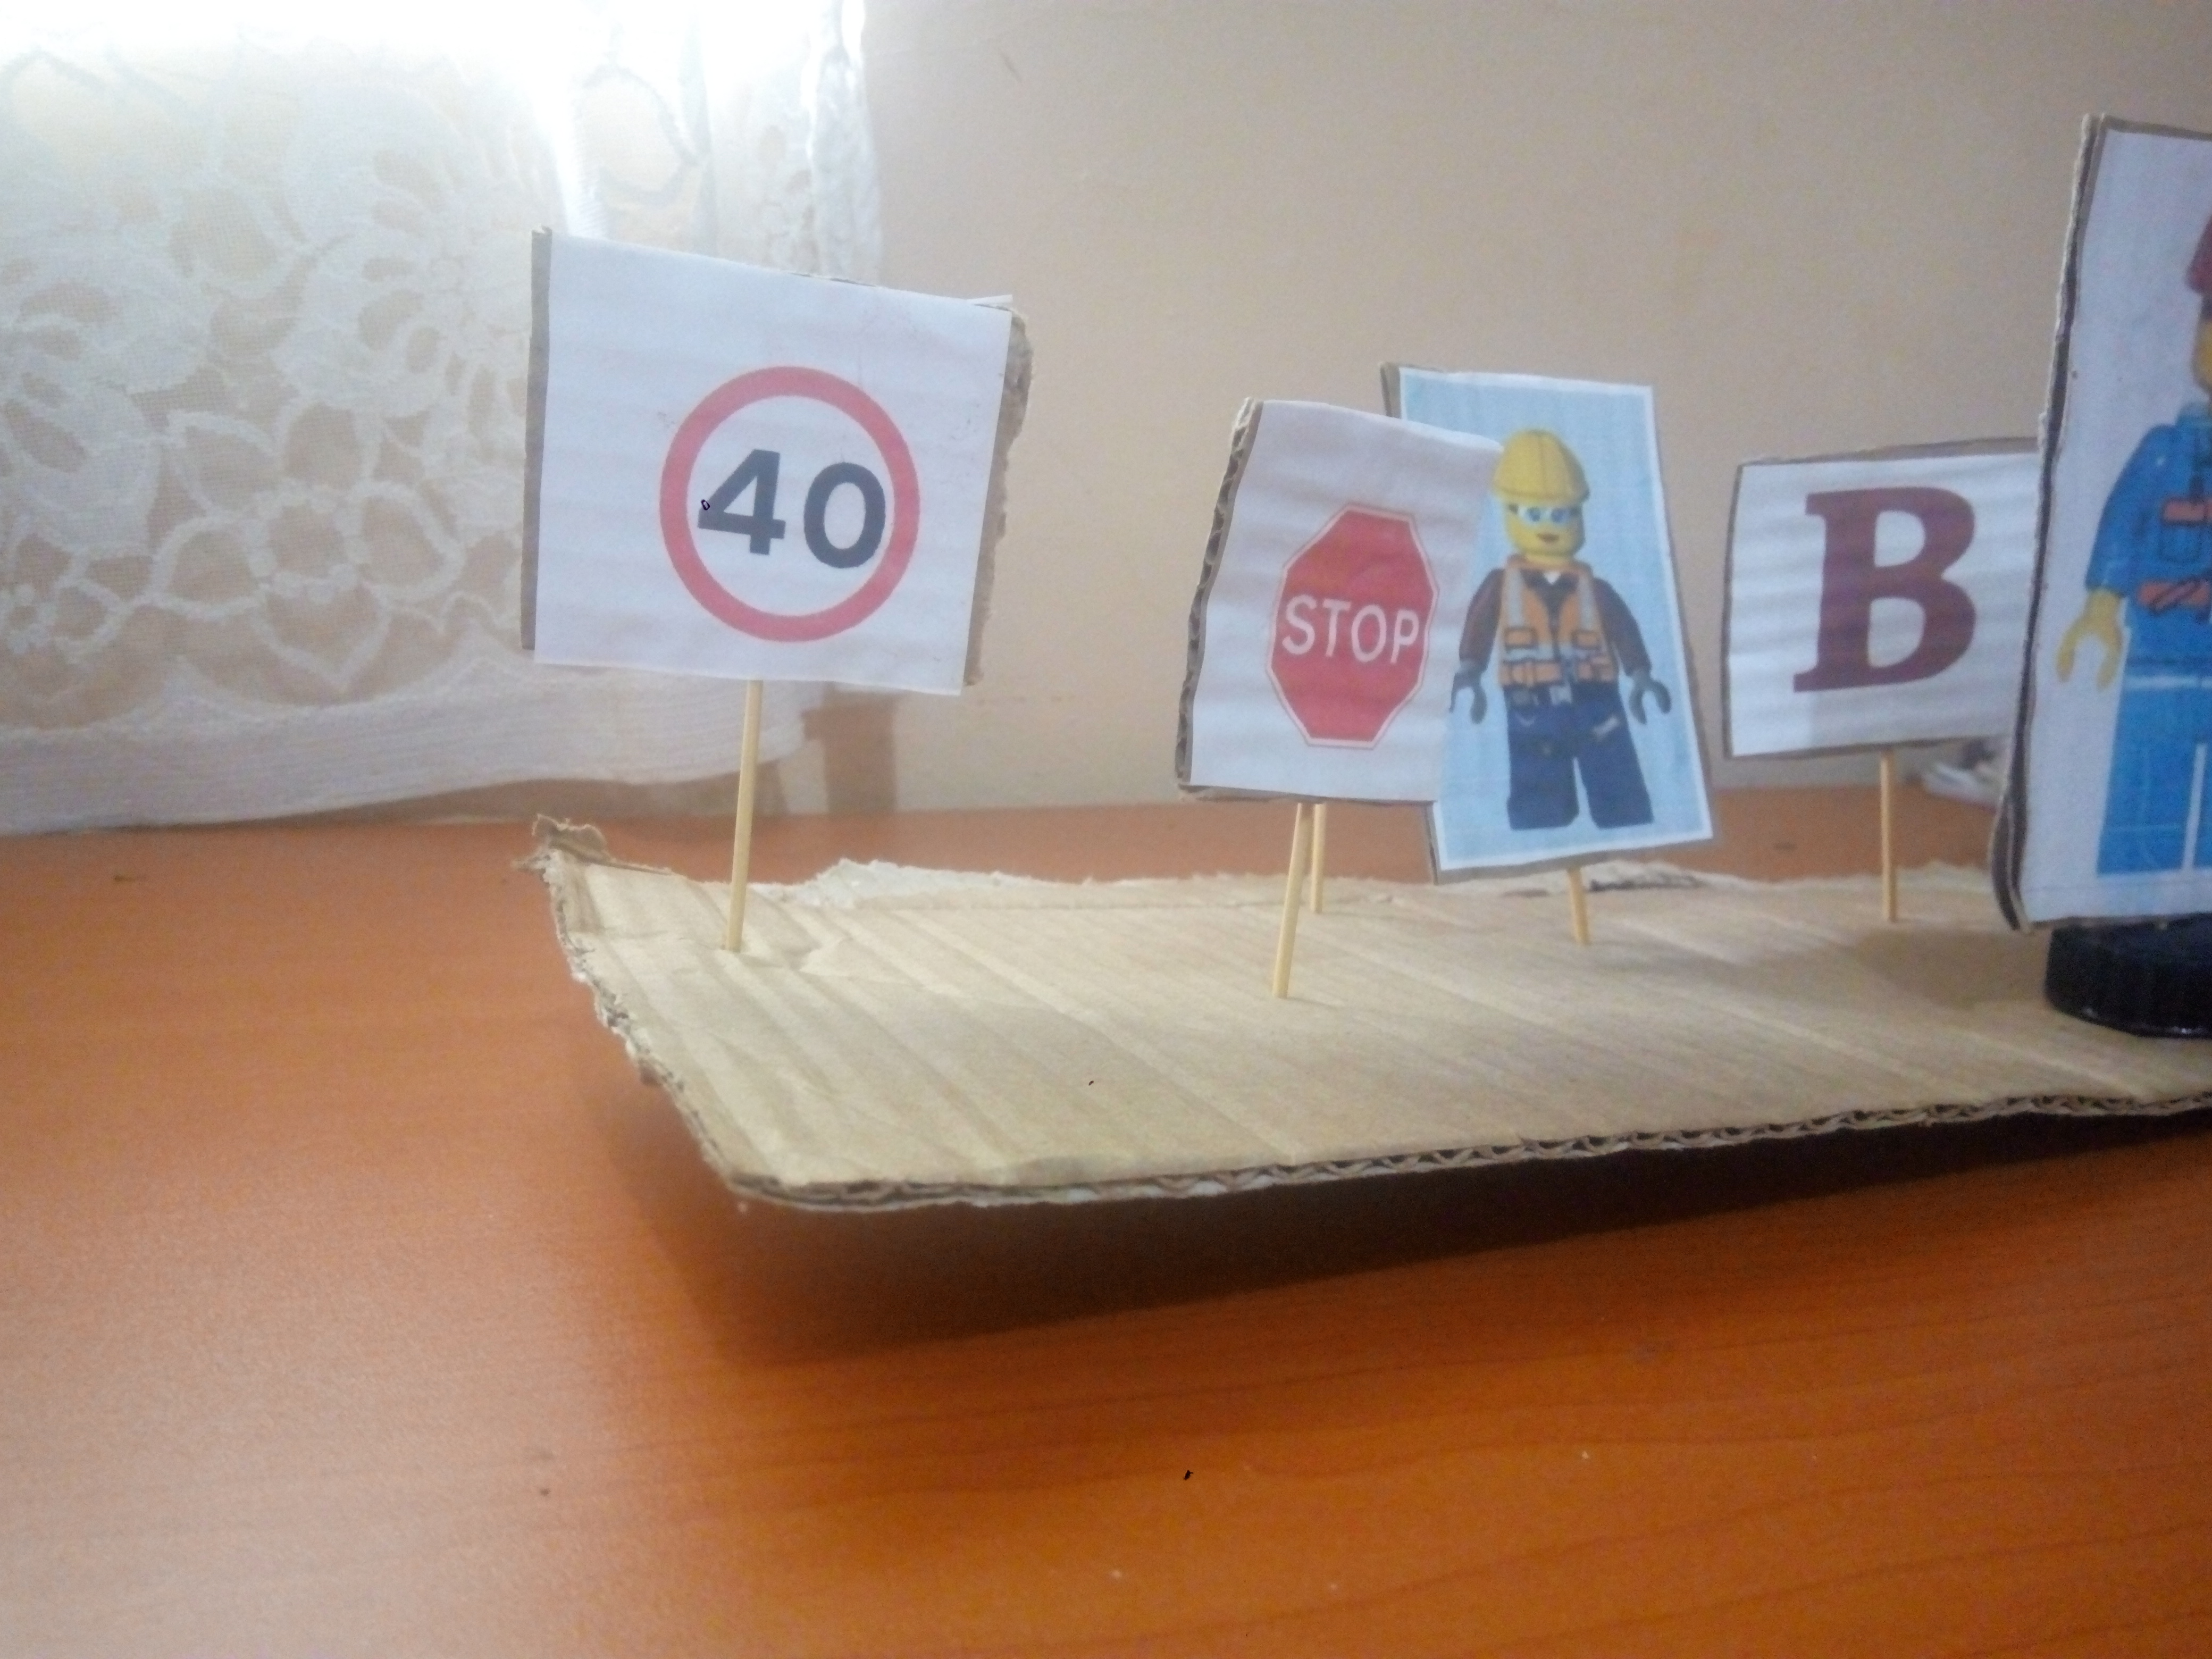40kph: (625, 324, 952, 694)
pedestrian: (1404, 372, 1680, 845)
stop: (1162, 423, 1489, 793)
zone B: (1735, 400, 2062, 770)
